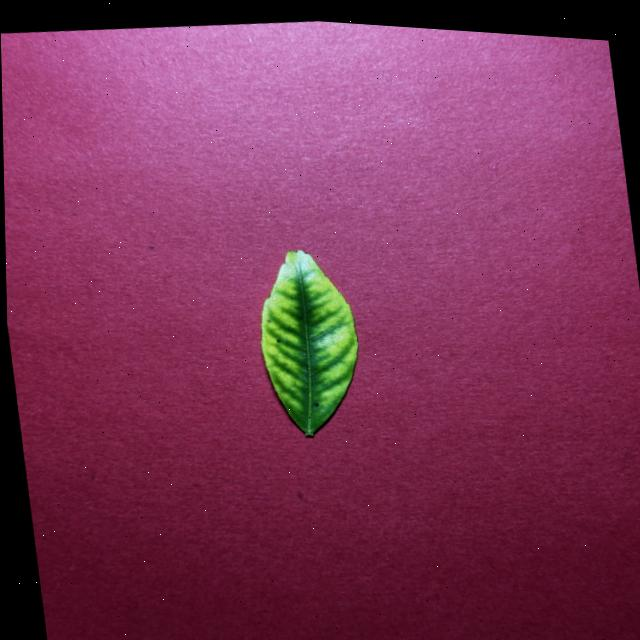greening: (260, 249, 357, 435)
